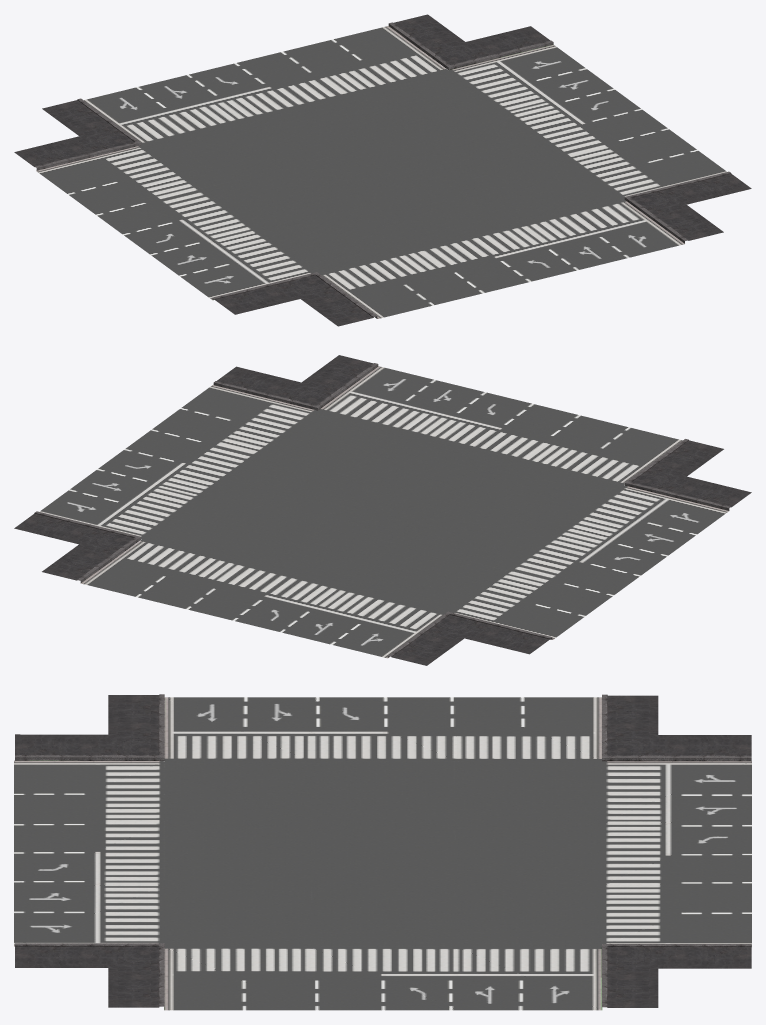
Rendered from 6 line cross intersection.FBX.
The picture shows the model from 3 angles, top to bottom: view 1: azimuth 30°, elevation 25°; view 2: azimuth 150°, elevation 25°; view 3: azimuth 270°, elevation 25°; orthographic projection. The views are drawn at different scales.
Visible parts, largest first — view 1: Object002; view 2: Object002; view 3: Object002.
Part boxes in pixels (<box>): Object002: <box>14,14,751,326</box>; Object002: <box>14,355,751,665</box>; Object002: <box>14,694,751,1010</box>.
Bounding box in the file's own units: 59.29 × 0.3187 × 59.07.
